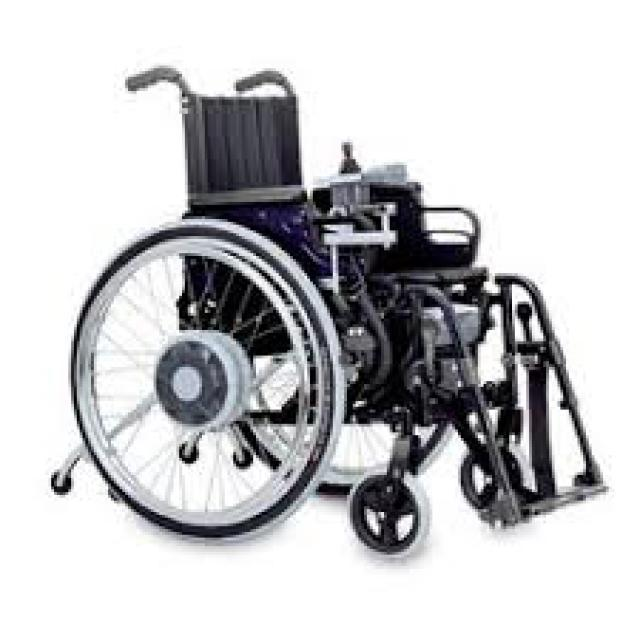wheelchair: (42, 59, 614, 560)
